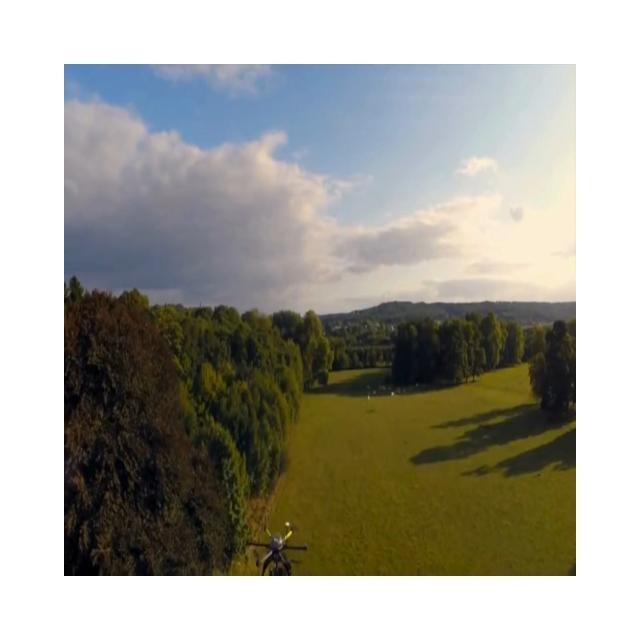drone: (245, 521, 307, 575)
